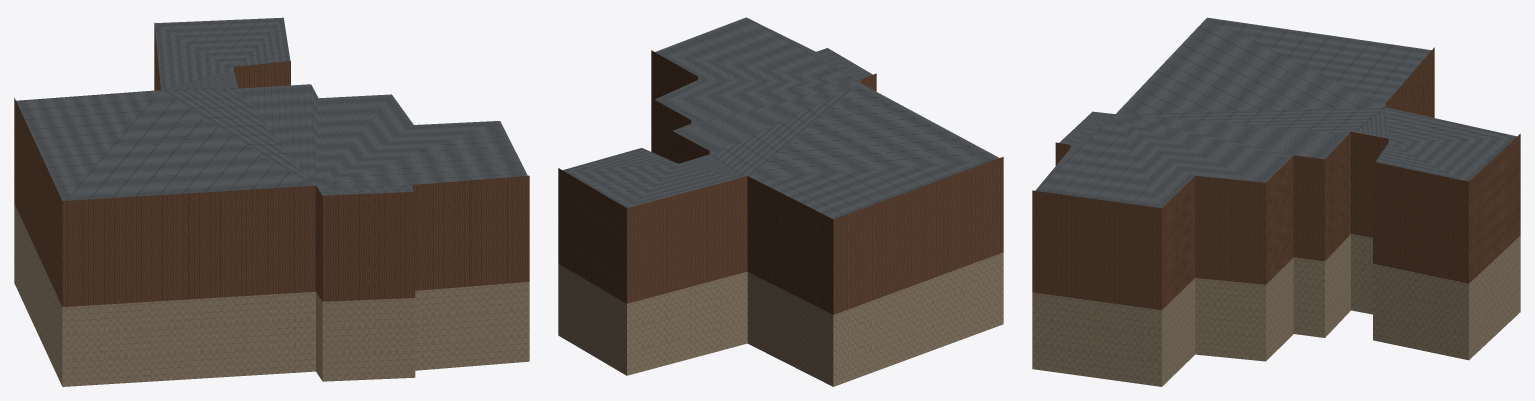
Rendered from bld_c10_43_504.gltf.
The picture shows the model from 3 angles, left to right: view 1: azimuth 30°, elevation 25°; view 2: azimuth 150°, elevation 25°; view 3: azimuth 270°, elevation 25°; orthographic projection. The views are drawn at different scales.
Visible parts, largest first — view 1: bld_c10_43_504; view 2: bld_c10_43_504; view 3: bld_c10_43_504.
Boxes of the visible parts, <box> form: bld_c10_43_504: <box>14,17,529,386</box>; bld_c10_43_504: <box>558,17,1003,386</box>; bld_c10_43_504: <box>1032,17,1520,386</box>.
Bounding box in the file's own units: 27.7 × 11.88 × 29.4.
4 materials, 4 textured.
